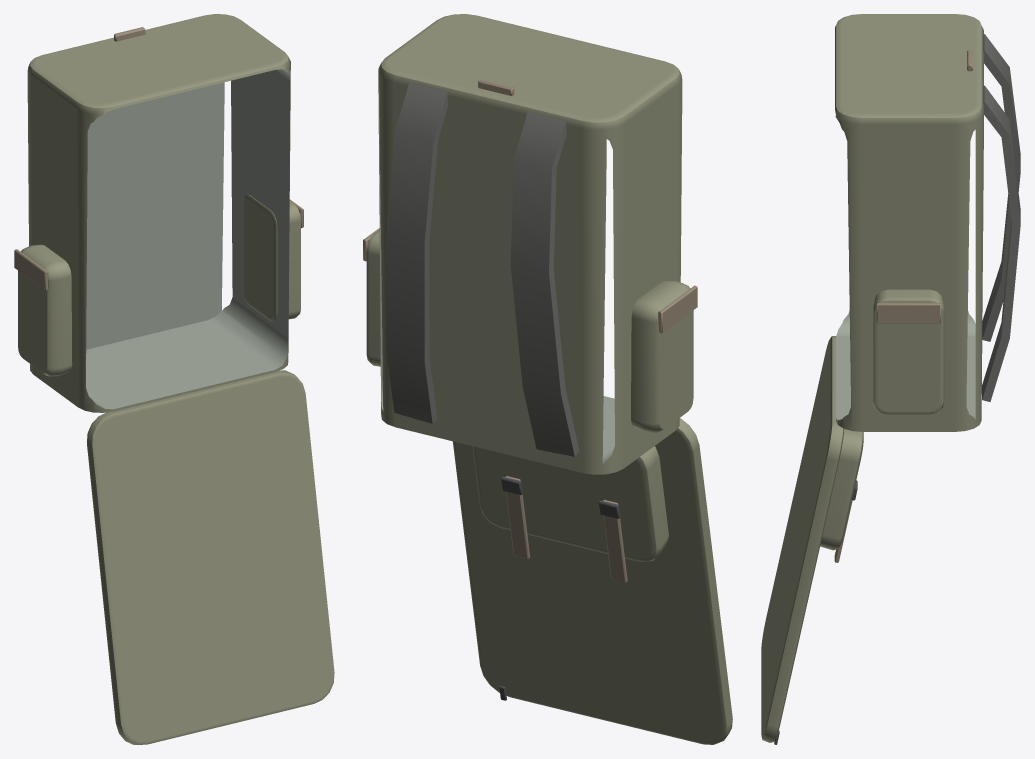
Rendered from backpack_open.glb.
The picture shows the model from 3 angles, left to right: view 1: azimuth 30°, elevation 25°; view 2: azimuth 150°, elevation 25°; view 3: azimuth 270°, elevation 25°; orthographic projection. The views are drawn at different scales.
Visible parts, largest first — view 1: pack, pack_lid_open; view 2: pack, pack_lid_open; view 3: pack, pack_lid_open.
Boxes of the visible parts, x1=… form: pack: x1=14, y1=14, x2=303, y2=412; pack_lid_open: x1=87, y1=370, x2=334, y2=744; pack: x1=363, y1=14, x2=697, y2=474; pack_lid_open: x1=452, y1=418, x2=732, y2=744; pack: x1=835, y1=14, x2=1020, y2=431; pack_lid_open: x1=761, y1=336, x2=863, y2=744.
Bounding box in the file's own units: 0.43 × 0.9889 × 0.3617.
